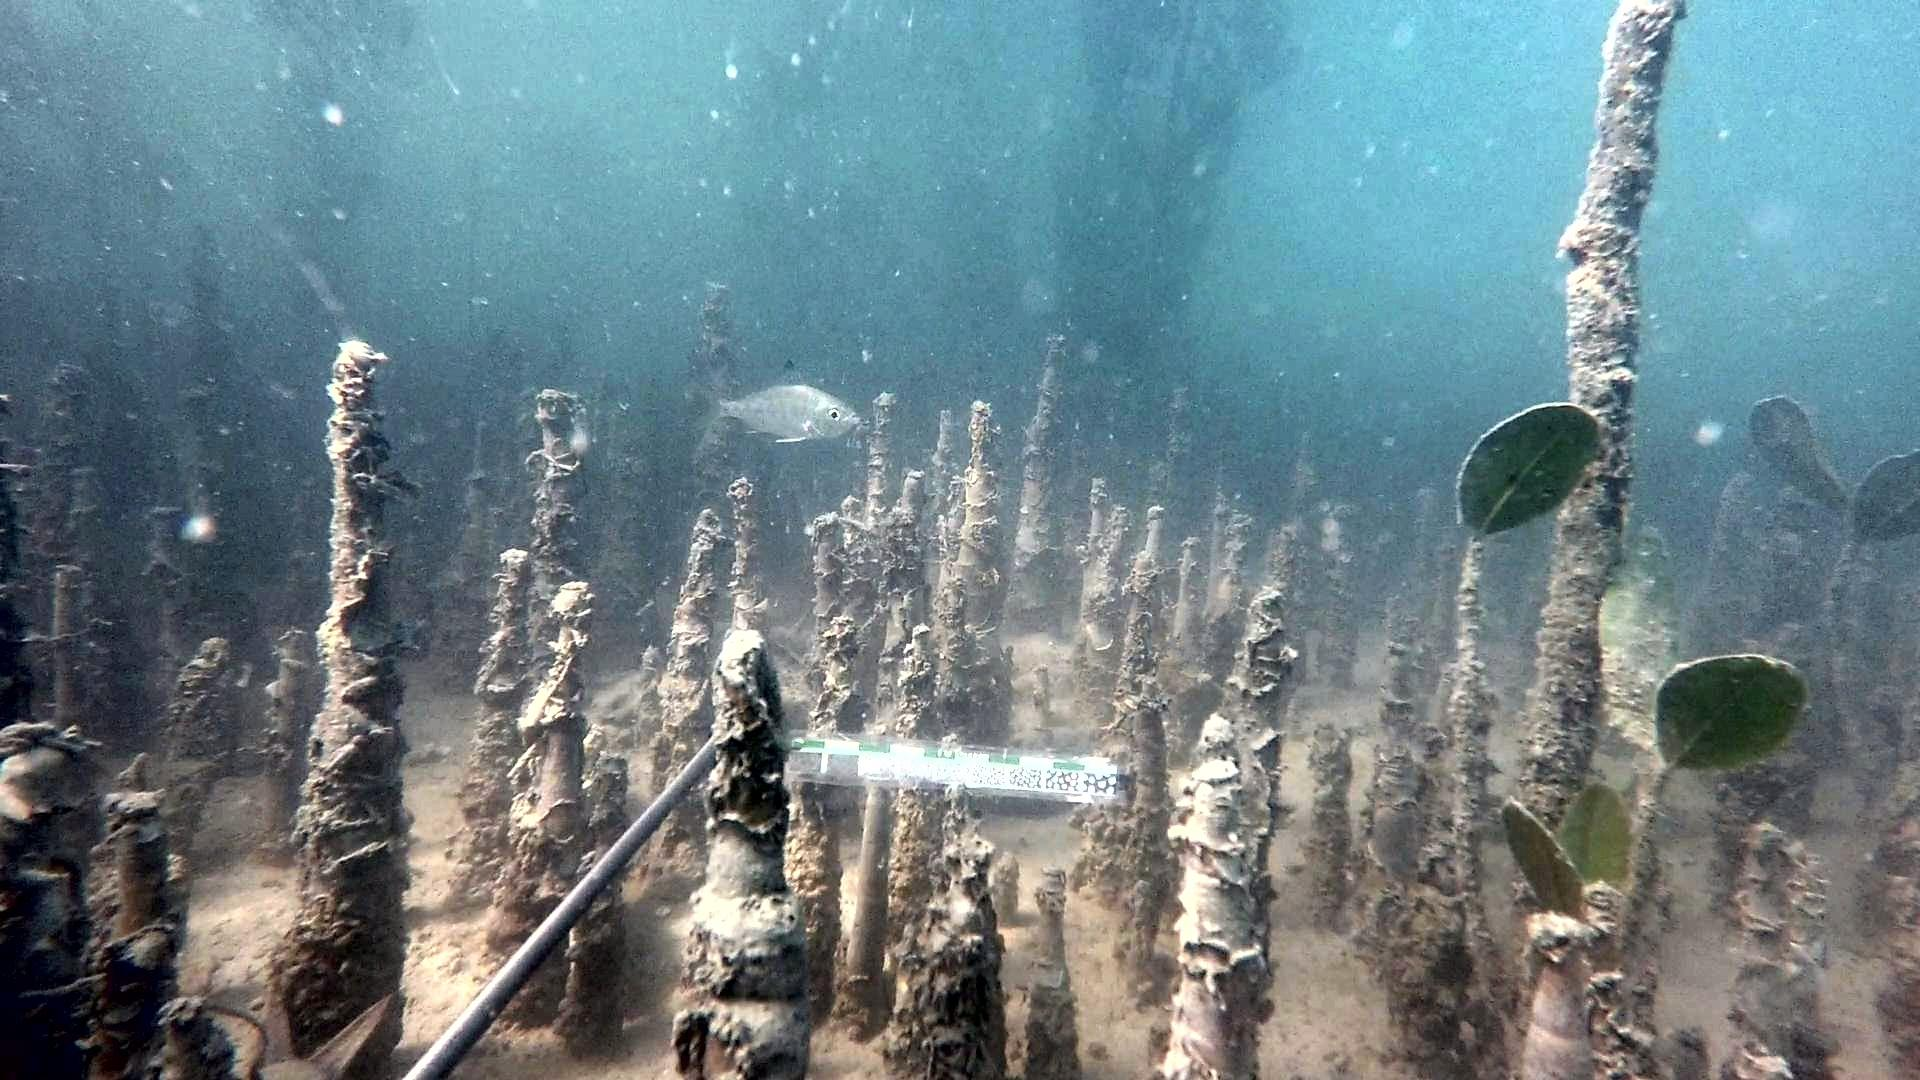gerres: (694, 358, 862, 446)
